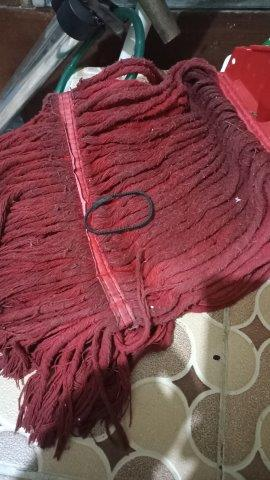karet: (83, 190, 156, 236)
